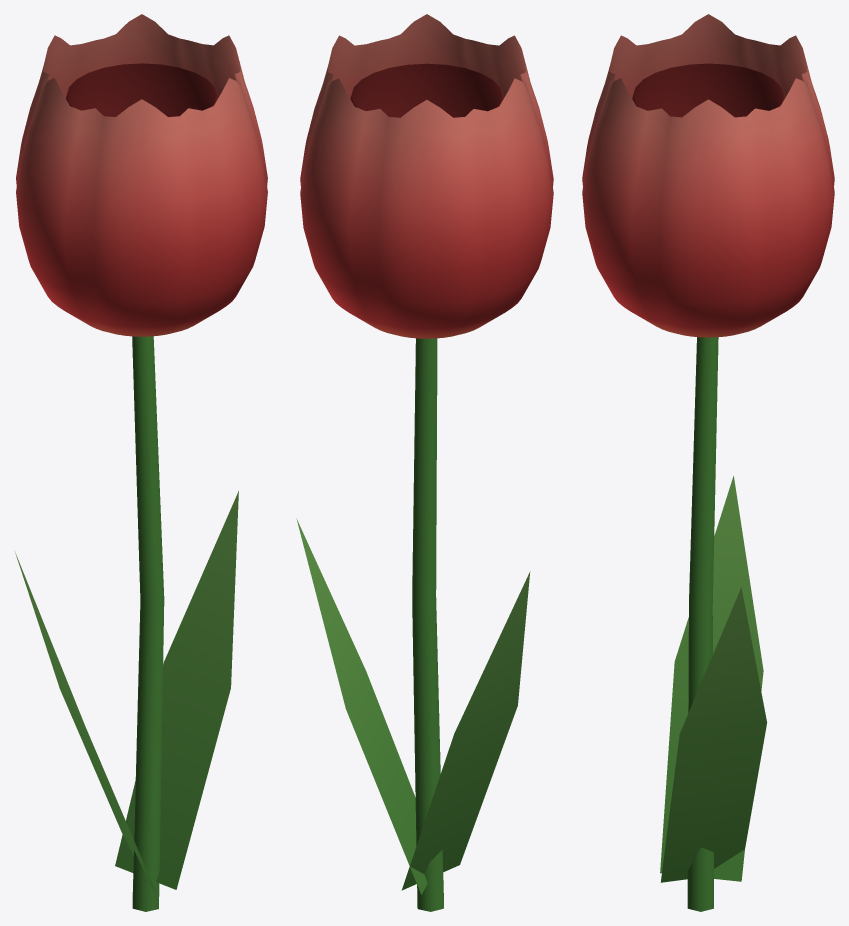
The model's file is Tulip_Red.fbx.
3 renders of one model, left to right at view 1: azimuth 30°, elevation 25°; view 2: azimuth 150°, elevation 25°; view 3: azimuth 270°, elevation 25°, orthographic.
Visible parts, largest first — view 1: Tulip_Red; view 2: Tulip_Red; view 3: Tulip_Red.
Part boxes in pixels (x1=…): Tulip_Red: x1=15, y1=14, x2=267, y2=911; Tulip_Red: x1=296, y1=14, x2=553, y2=911; Tulip_Red: x1=582, y1=14, x2=834, y2=911.
Bounding box in the file's own units: 1.73 × 6.13 × 1.65.
